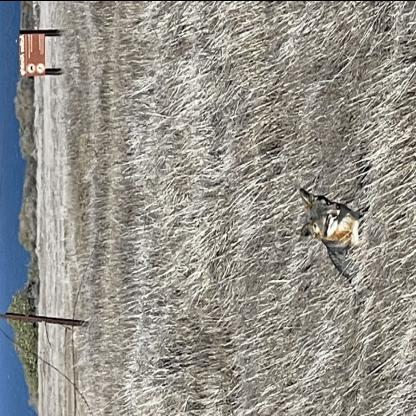zorro: (296, 178, 368, 302)
